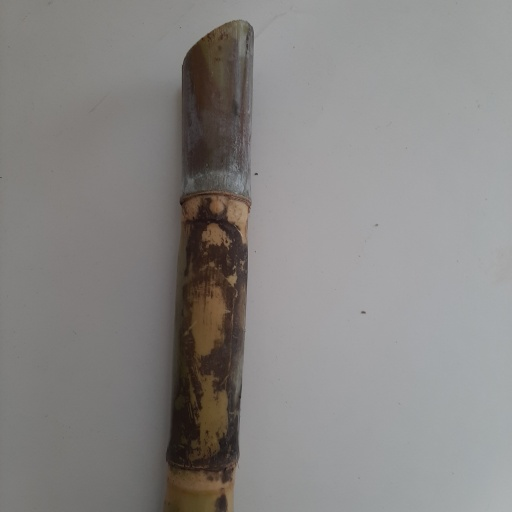Bud: (205, 196, 230, 221)
